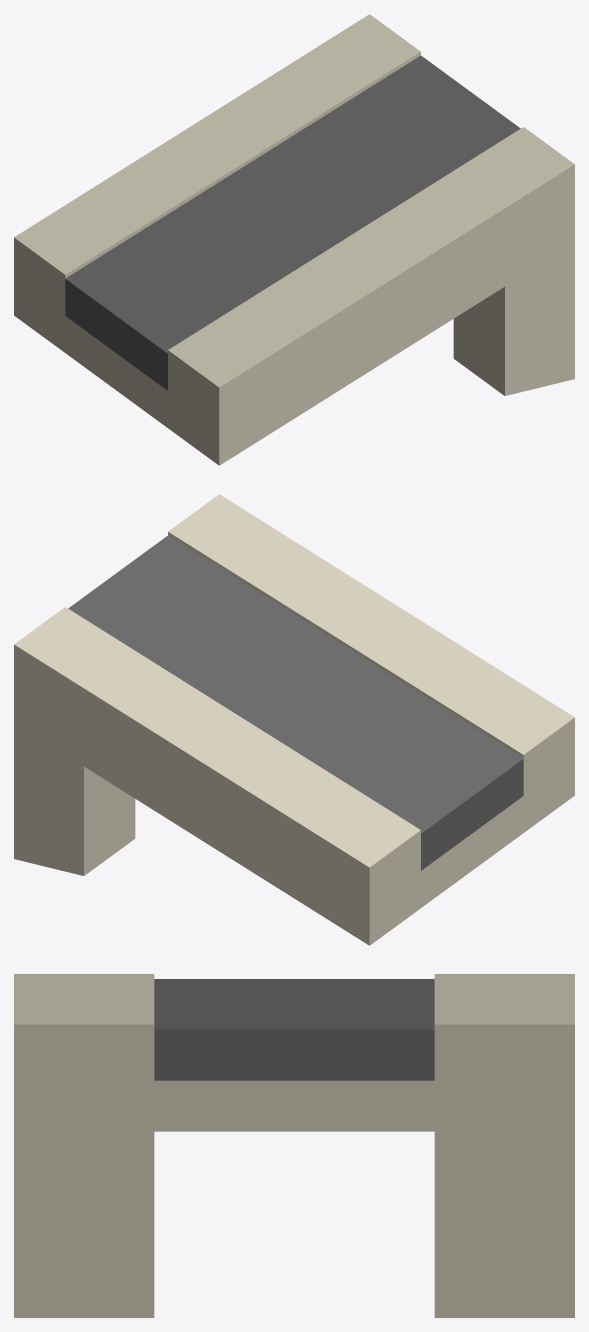
File: tile036.fbx
The picture shows the model from 3 angles, top to bottom: view 1: azimuth 30°, elevation 25°; view 2: azimuth 150°, elevation 25°; view 3: azimuth 270°, elevation 25°; orthographic projection. The views are drawn at different scales.
Visible parts, largest first — view 1: tile036; view 2: tile036; view 3: tile036.
Boxes of the visible parts, x1=… form: tile036: x1=14, y1=14, x2=574, y2=465; tile036: x1=14, y1=494, x2=574, y2=945; tile036: x1=14, y1=974, x2=574, y2=1317.
Size of the model in its own units: 10 by 5.77 by 10.
